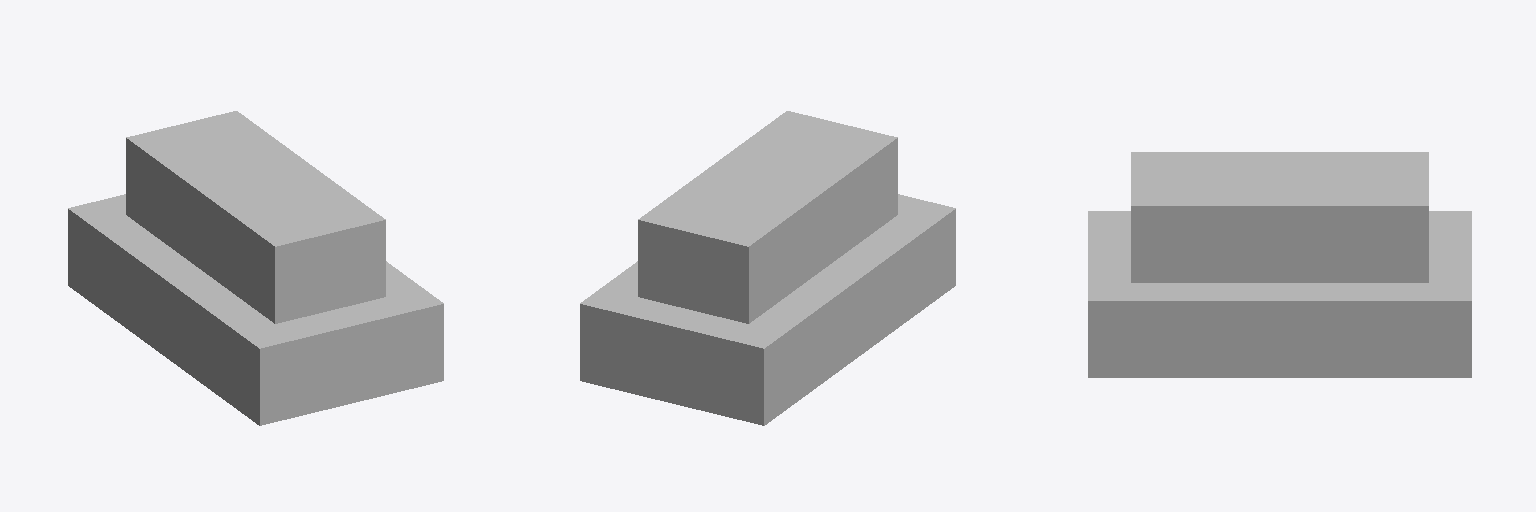
Rendered from bush2.obj.
The picture shows the model from 3 angles: view 1: azimuth 30°, elevation 25°; view 2: azimuth 150°, elevation 25°; view 3: azimuth 270°, elevation 25°; orthographic projection.
Visible parts, largest first — view 1: object 1; view 2: object 1; view 3: object 1.
Part boxes in pixels (x1,y1,x2,y2): object 1: (68, 111, 443, 425); object 1: (580, 111, 955, 425); object 1: (1088, 152, 1471, 377).
Bounding box in the file's own units: 0.5 × 0.4 × 0.9.